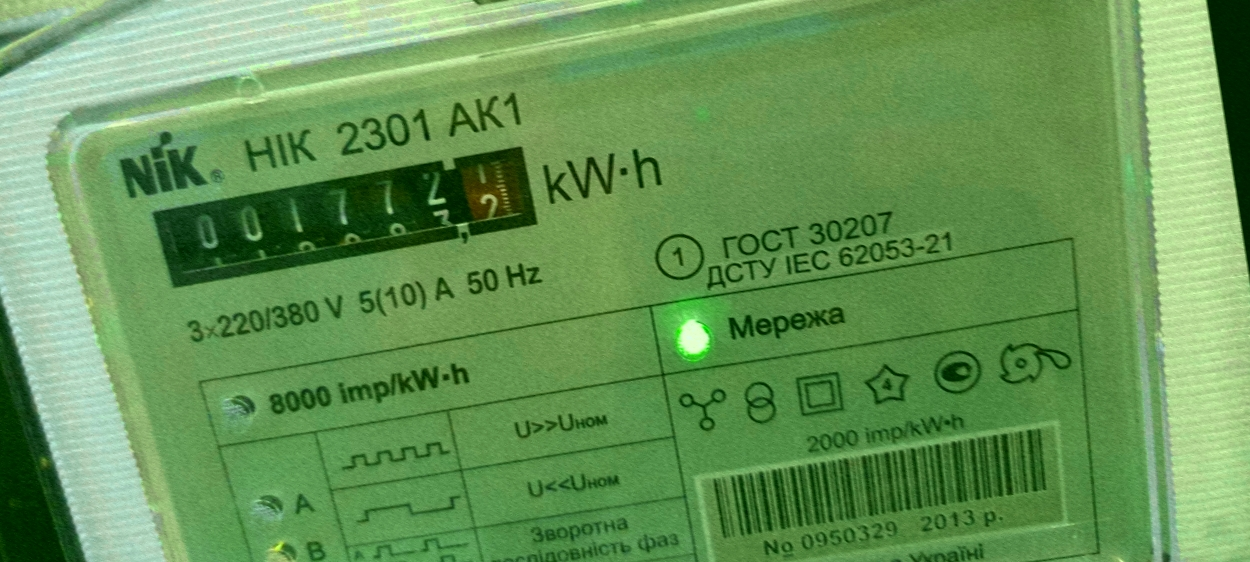0: (190, 209, 223, 253), (237, 202, 266, 244)
1: (285, 195, 307, 235), (474, 162, 491, 189)
2: (421, 170, 449, 209), (475, 190, 502, 222)
3: (431, 207, 456, 231)
7: (327, 186, 355, 229), (373, 178, 400, 219)
screen: (139, 133, 558, 303)
